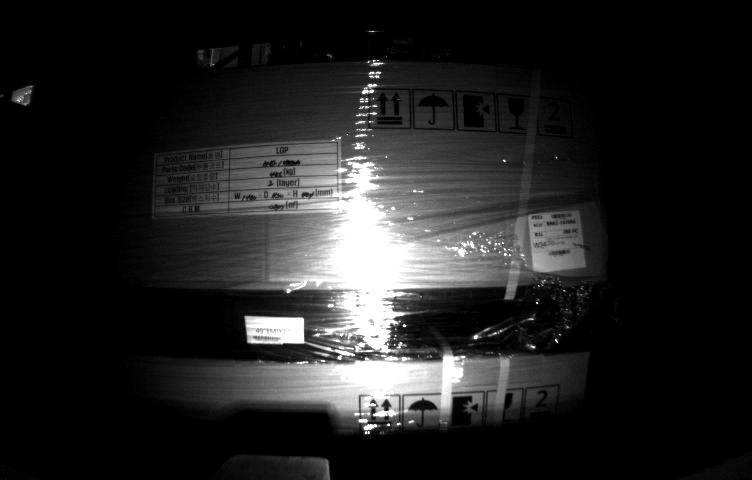True Barcode: (527, 207, 587, 272)
